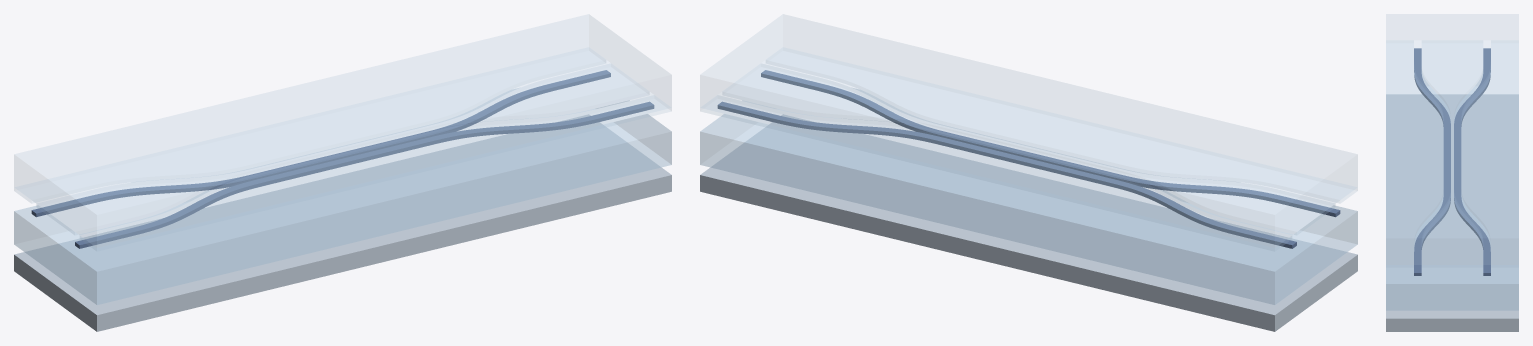
File: stack-dc-x.glb
The picture shows the model from 3 angles, left to right: view 1: azimuth 30°, elevation 25°; view 2: azimuth 150°, elevation 25°; view 3: azimuth 270°, elevation 25°; orthographic projection. The views are drawn at different scales.
Parts seen in each view (by area): view 1: cladd, sisub, box, siwg; view 2: cladd, sisub, box, siwg; view 3: cladd, sisub, box, siwg.
Boxes of the visible parts, x1,y1,x2,y2 form: cladd: (14, 14, 671, 250); sisub: (14, 114, 671, 331); box: (14, 88, 671, 304); siwg: (31, 70, 654, 248); cladd: (700, 14, 1357, 250); sisub: (700, 114, 1357, 331); box: (700, 88, 1357, 304); siwg: (717, 70, 1340, 248); cladd: (1386, 14, 1518, 266); sisub: (1386, 94, 1518, 331); box: (1386, 73, 1518, 310); siwg: (1414, 48, 1490, 275).
Bounding box in the file's own units: 36 × 7 × 9.
